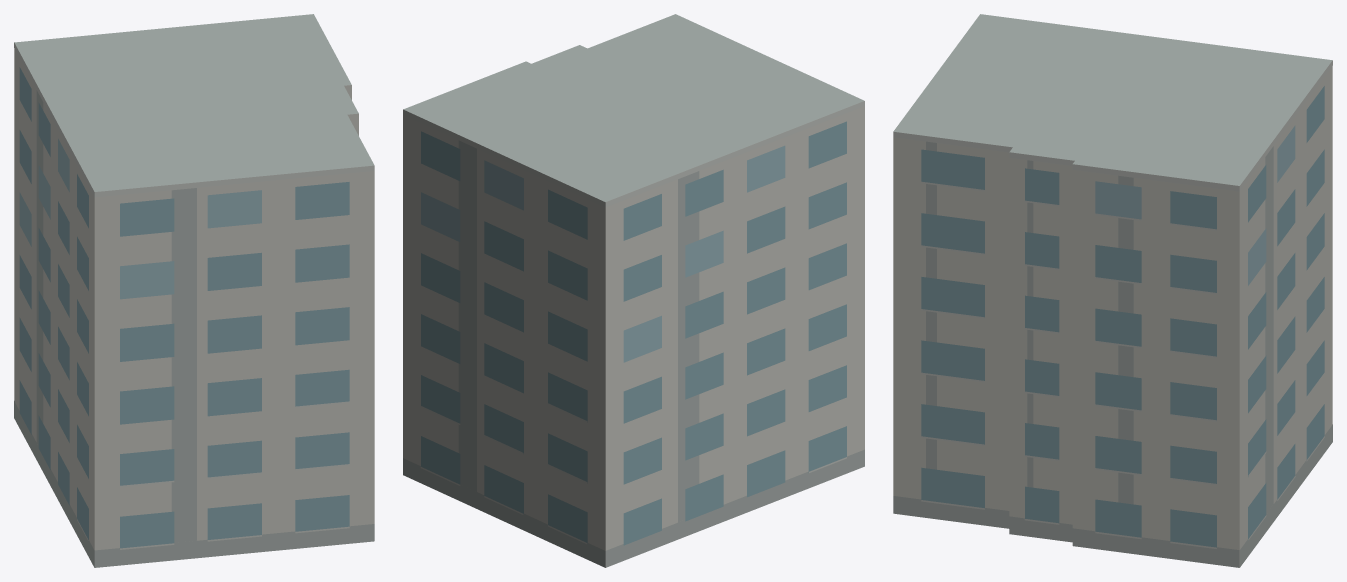
The model's file is survey-upis-32875976.glb.
3 renders of one model, left to right at view 1: azimuth 30°, elevation 25°; view 2: azimuth 150°, elevation 25°; view 3: azimuth 270°, elevation 25°, orthographic. The views are drawn at different scales.
Parts seen in each view (by area): view 1: survey-upis-32875976.tmp; view 2: survey-upis-32875976.tmp; view 3: survey-upis-32875976.tmp.
Boxes of the visible parts, <box> form: survey-upis-32875976.tmp: <box>14,14,374,567</box>; survey-upis-32875976.tmp: <box>403,14,864,567</box>; survey-upis-32875976.tmp: <box>893,14,1332,567</box>.
Size of the model in its own units: 16.04 by 16.6 by 17.32.
